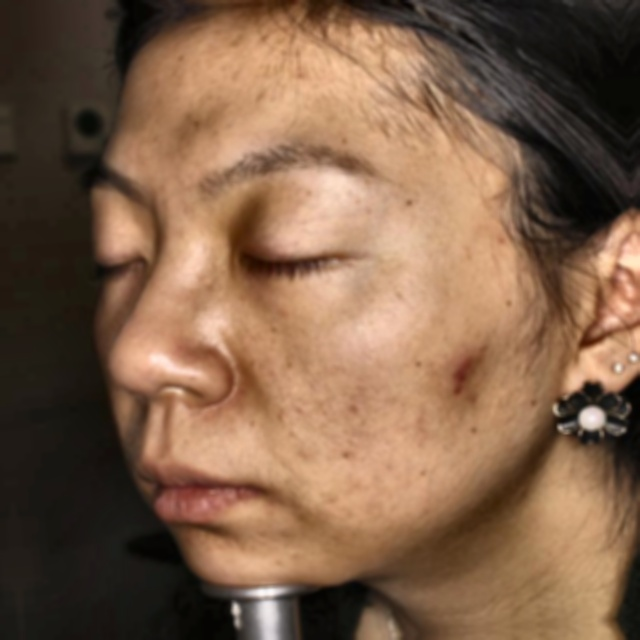comedone: (440, 350, 491, 390)
